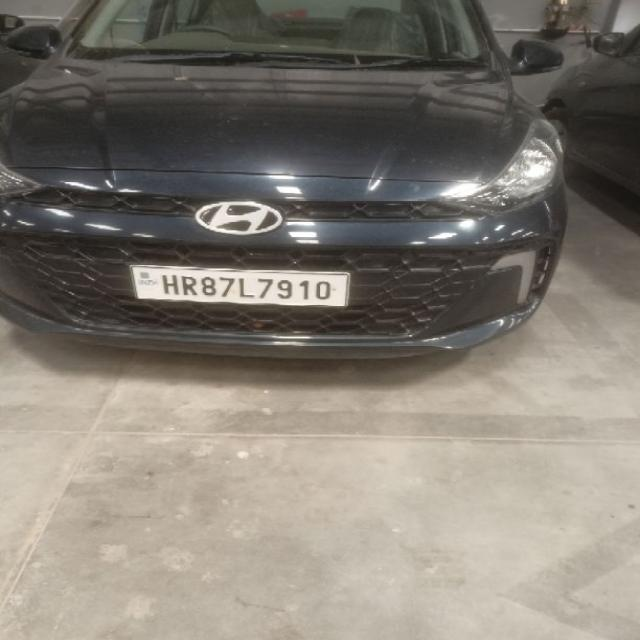license_plate: (128, 264, 350, 308)
